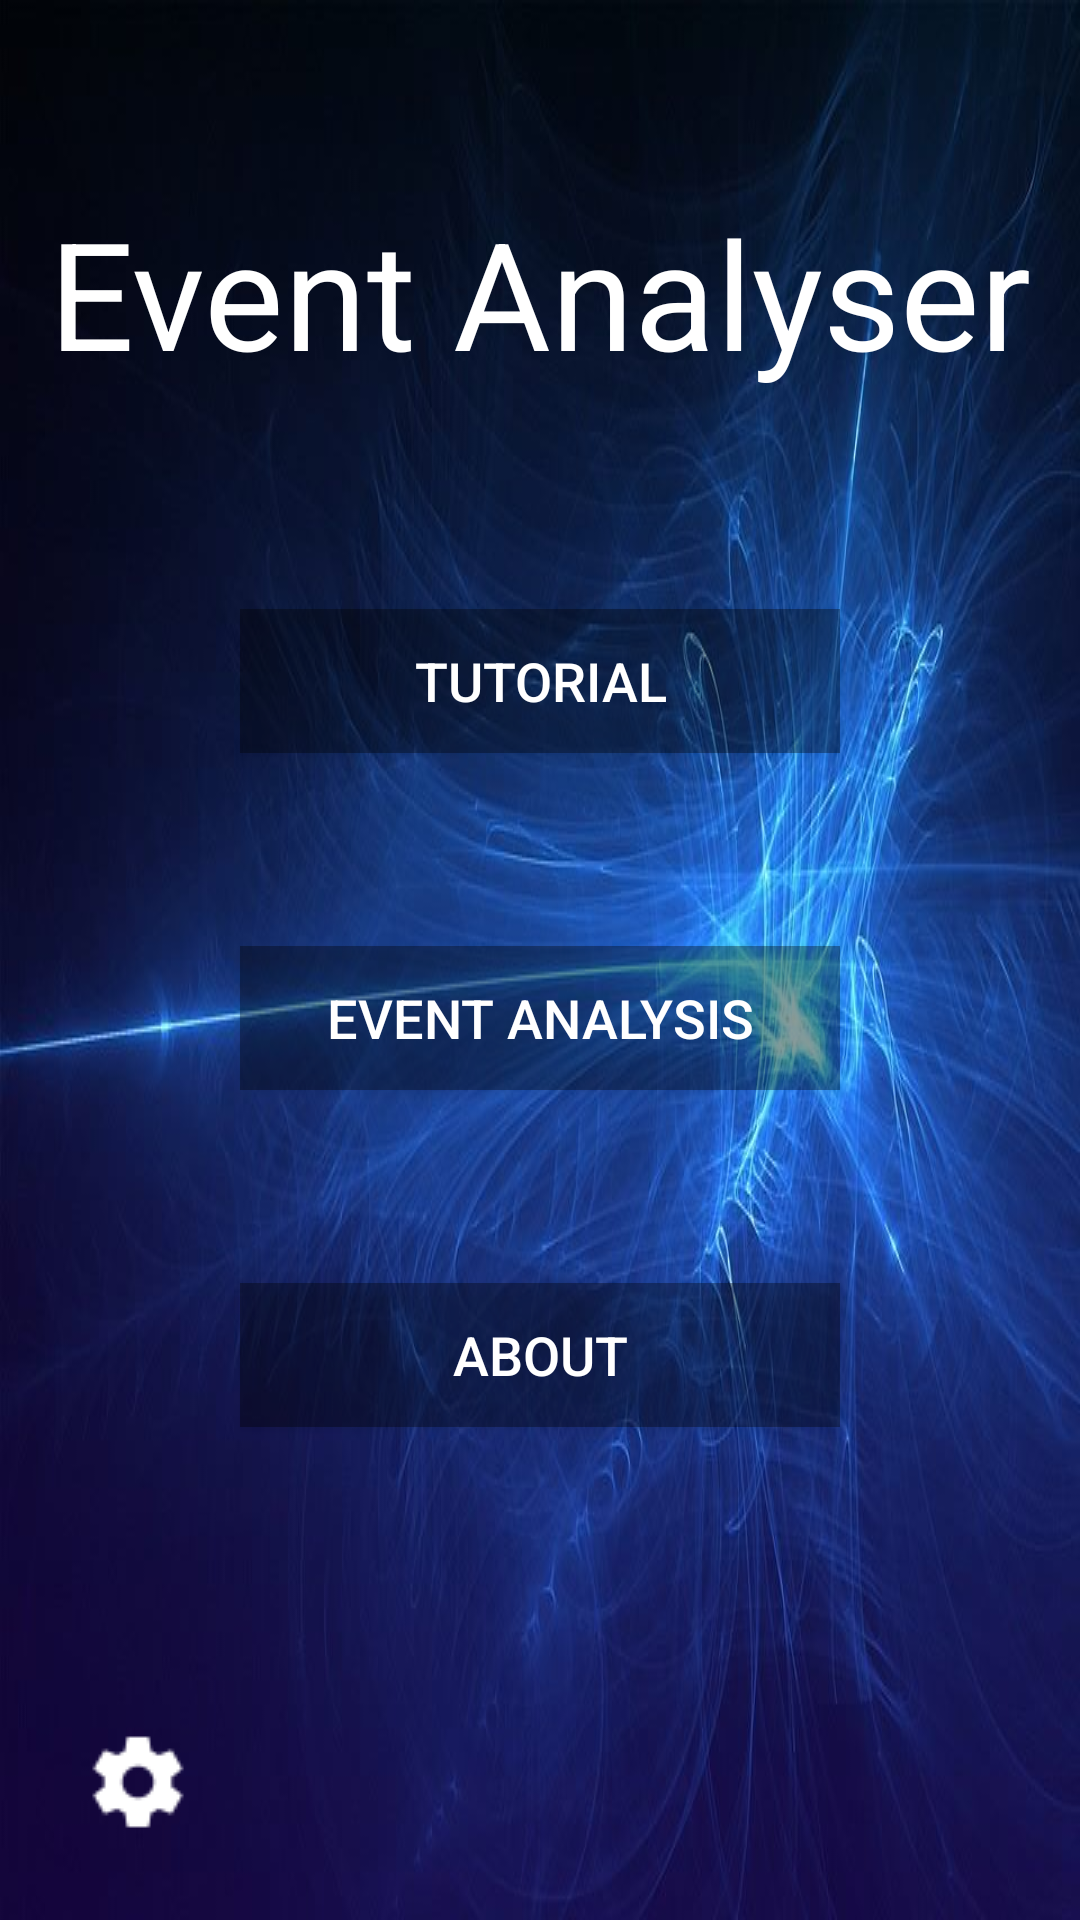

Named icons in this screenshot (1080x1920) and their centers, point (x, y):
Change settings: point (138, 1782)
